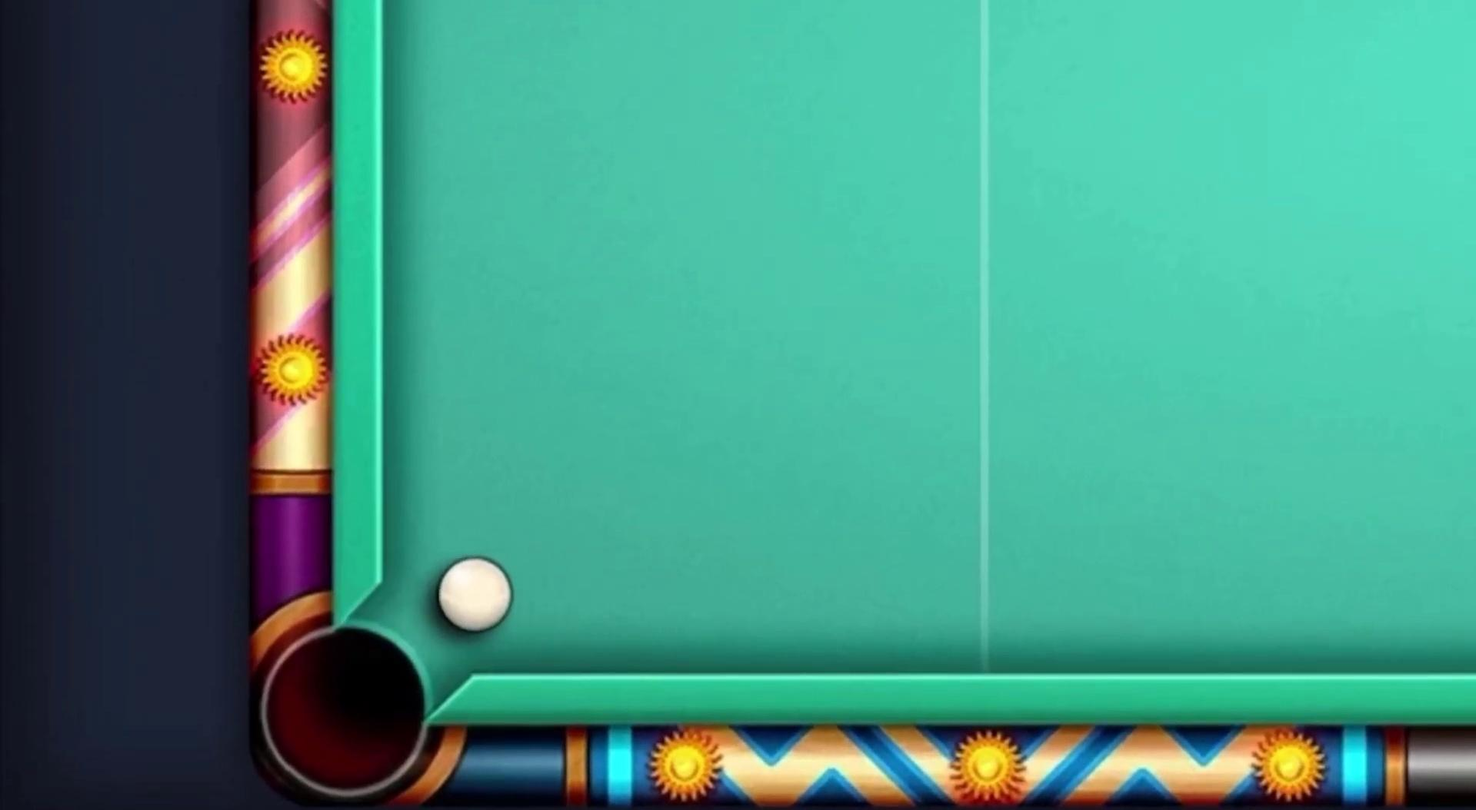Hole: (242, 583, 479, 808)
Play_Area: (380, 2, 1475, 678)
White: (423, 550, 521, 639)
